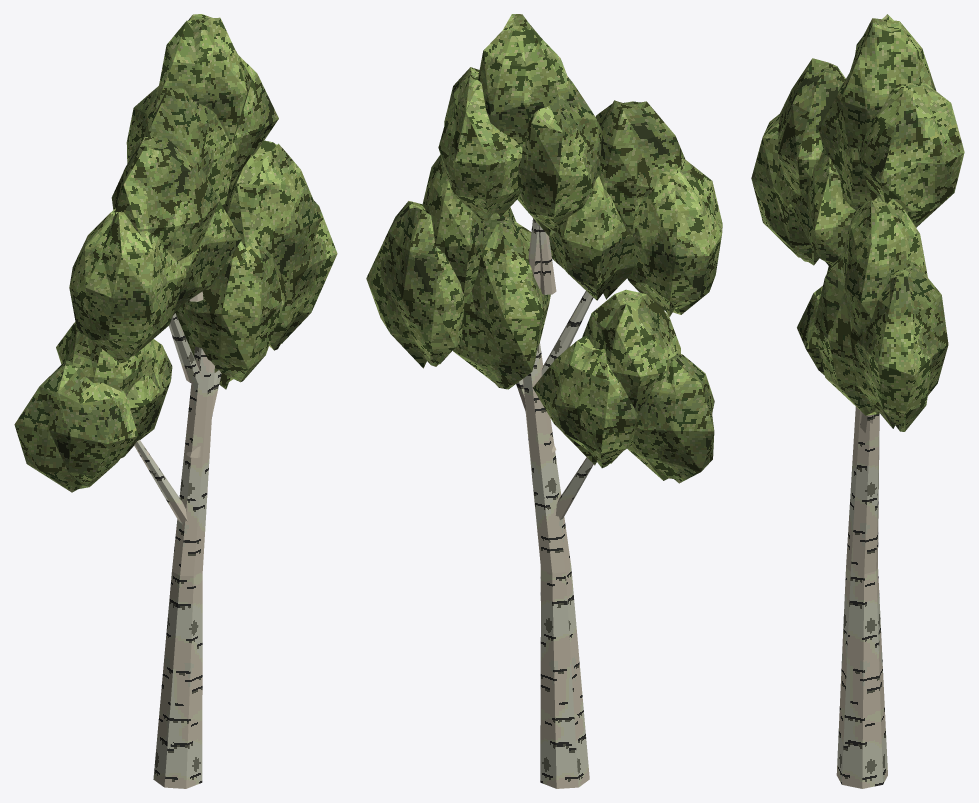
The model's file is birch.glb.
3 views of the same model, side by side, from view 1: azimuth 30°, elevation 25°; view 2: azimuth 150°, elevation 25°; view 3: azimuth 270°, elevation 25° (orthographic). The views are drawn at different scales.
Visible parts, largest first — view 1: Birch_LightOpenCrown, Birch_PaleForkedTrunk; view 2: Birch_LightOpenCrown, Birch_PaleForkedTrunk; view 3: Birch_LightOpenCrown, Birch_PaleForkedTrunk.
Boxes of the visible parts, x1=… form: Birch_LightOpenCrown: x1=14, y1=14, x2=337, y2=492; Birch_PaleForkedTrunk: x1=134, y1=291, x2=221, y2=788; Birch_LightOpenCrown: x1=366, y1=14, x2=722, y2=483; Birch_PaleForkedTrunk: x1=516, y1=218, x2=593, y2=788; Birch_LightOpenCrown: x1=751, y1=14, x2=964, y2=431; Birch_PaleForkedTrunk: x1=836, y1=406, x2=887, y2=788.
Bounding box in the file's own units: 2.98 × 6.52 × 1.62.
Materials: 2 (2 with a texture image).
